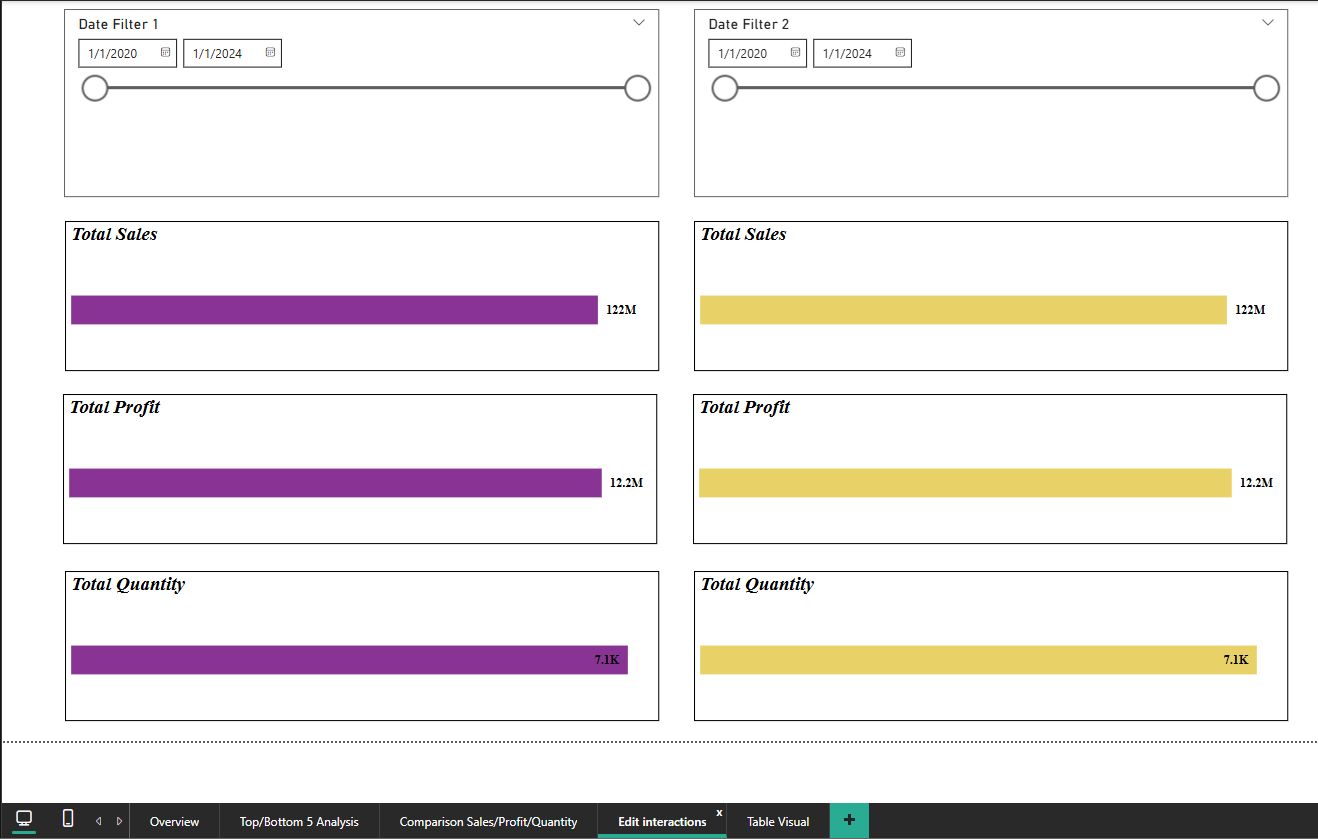

This screenshot's page, from the dashboard's own definition file:
{"tool":"powerbi","page":{"name":"Edit interactions","canvas":[1280,720],"ordinal":3},"visuals":[{"type":"slicer","fields":{"Values":["Fact Table.Date (dd/mm/yyyy)"]},"box":[60.5,7.7,579.5,182.6],"z":0},{"type":"slicer","fields":{"Values":["Fact Table.Date (dd/mm/yyyy)"]},"box":[672.7,7.7,578.5,182.6],"z":1000},{"type":"barChart","title":"Total Quantity ","fields":{"Y":["Sum(Fact Table.Units Sold)"]},"box":[61.5,554.5,578.5,146.1],"z":2000},{"type":"barChart","title":"Total Profit","fields":{"Y":["Sum(Fact Table.Profit)"]},"box":[59.6,382.5,578.5,146.1],"z":3000},{"type":"barChart","title":"Total Sales","fields":{"Y":["Sum(Fact Table.Net Sales    )"]},"box":[61.5,214.3,578.5,146.1],"z":4000},{"type":"barChart","title":"Total Sales","fields":{"Y":["Sum(Fact Table.Net Sales    )"]},"box":[672.7,214.3,578.5,146.1],"z":5000},{"type":"barChart","title":"Total Profit","fields":{"Y":["Sum(Fact Table.Profit)"]},"box":[671.7,382.5,578.5,146.1],"z":6000},{"type":"barChart","title":"Total Quantity ","fields":{"Y":["Sum(Fact Table.Units Sold)"]},"box":[672.7,554.5,578.5,146.1],"z":7000}]}

Visuals, with their boxes on the page's 1280x720 design canvas (x1, y1, x2, y2). These are canvas units, not pixel positions in the 1318x839 screenshot, which may show the page scaled, cropped or inside an application window:
slicer - Fact Table.Date (dd/mm/yyyy): x1=60, y1=8, x2=640, y2=190
slicer - Fact Table.Date (dd/mm/yyyy): x1=673, y1=8, x2=1251, y2=190
"Total Quantity " barChart: x1=62, y1=554, x2=640, y2=701
"Total Profit" barChart: x1=60, y1=382, x2=638, y2=529
"Total Sales" barChart: x1=62, y1=214, x2=640, y2=360
"Total Sales" barChart: x1=673, y1=214, x2=1251, y2=360
"Total Profit" barChart: x1=672, y1=382, x2=1250, y2=529
"Total Quantity " barChart: x1=673, y1=554, x2=1251, y2=701
